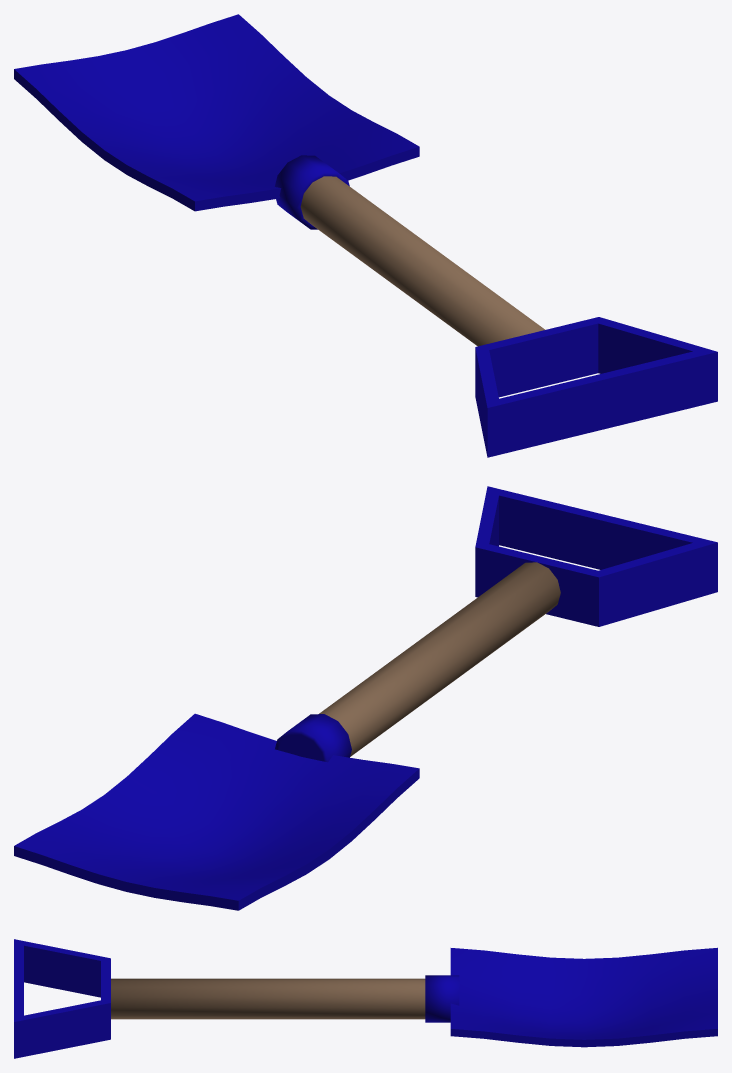
File: Schepblauw2.fbx
The picture shows the model from 3 angles, top to bottom: view 1: azimuth 30°, elevation 25°; view 2: azimuth 150°, elevation 25°; view 3: azimuth 270°, elevation 25°; orthographic projection. The views are drawn at different scales.
Visible parts, largest first — view 1: Plane.001; view 2: Plane.001; view 3: Plane.001.
Boxes of the visible parts, x1=… form: Plane.001: x1=14, y1=14, x2=717, y2=457; Plane.001: x1=14, y1=486, x2=717, y2=910; Plane.001: x1=14, y1=939, x2=717, y2=1058.
Bounding box in the file's own units: 0.1238 × 0.0368 × 0.4431.
